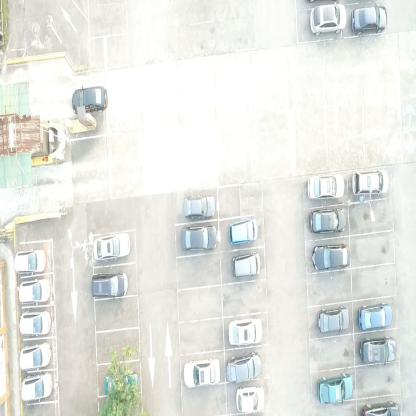car: (310, 1, 348, 36), (93, 230, 131, 262), (317, 372, 353, 405), (183, 356, 220, 388), (351, 4, 387, 36), (72, 84, 108, 116), (307, 172, 346, 201), (227, 351, 262, 383), (358, 301, 394, 331), (308, 207, 348, 234), (360, 335, 397, 364), (227, 318, 264, 347), (181, 223, 218, 252), (351, 168, 389, 196), (91, 271, 129, 299), (21, 370, 54, 402), (312, 244, 351, 271), (316, 305, 350, 334), (19, 309, 53, 337), (20, 341, 52, 370), (18, 276, 50, 304), (105, 369, 139, 395), (13, 248, 47, 274), (232, 251, 262, 279), (229, 217, 260, 244), (235, 386, 265, 413), (185, 192, 215, 218), (360, 400, 400, 415)
